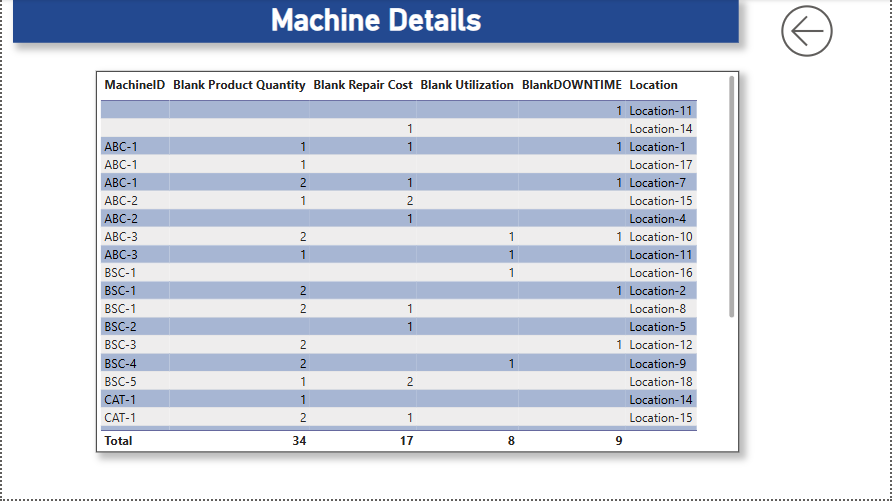

The page's visual inventory and layout, read from the dashboard file:
{"tool":"powerbi","page":{"name":"Machine Details","canvas":[1280,720],"ordinal":2},"visuals":[{"type":"textbox","box":[15.8,0,1045.4,63.4],"z":0},{"type":"tableEx","fields":{"Values":["Data Quality New.MachineID","Data Quality New.Blank Product Quantity","Data Quality New.Blank Repair Cost","DQ.Blank Utilization","DQ.BlankDOWNTIME","DimLoc.Location"]},"box":[135.4,103.7,925.9,548.6],"z":1000},{"type":"actionButton","box":[1113.1,0,118.1,92.2],"z":2000}]}

Visuals, with their boxes in screenshot pixels (x1, y1, x2, y2), scaled from the page's 1280x720 canvas onto the 892x501 screenshot:
textbox: [11,0,740,44]
tableEx - Data Quality New.MachineID x Data Quality New.Blank Product Quantity: [94,72,740,454]
actionButton: [776,0,858,64]
